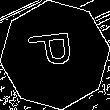P_E: (28, 34, 82, 76)
